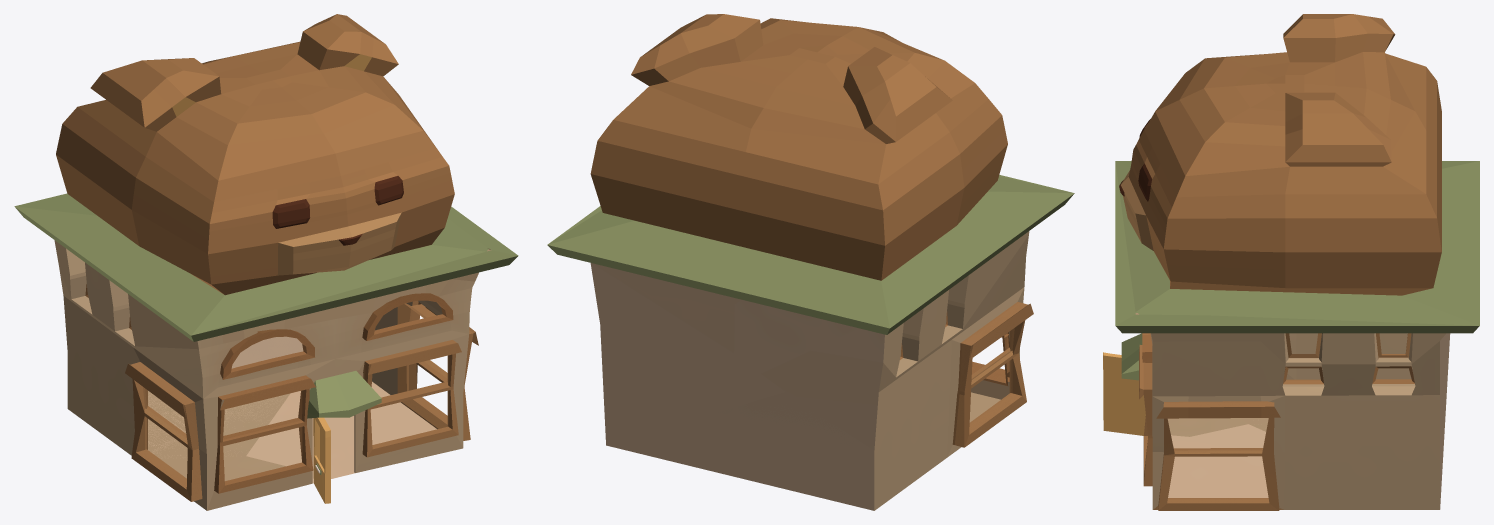
The model's file is ToyStore_Building_Final_DOOROPEN.fbx.
The picture shows the model from 3 angles, left to right: view 1: azimuth 30°, elevation 25°; view 2: azimuth 150°, elevation 25°; view 3: azimuth 270°, elevation 25°; orthographic projection. The views are drawn at different scales.
Parts seen in each view (by area): view 1: Cafe; view 2: Cafe; view 3: Cafe.
Boxes of the visible parts, box(x1,y1,x2,y2) form: Cafe: box(14, 14, 518, 510); Cafe: box(547, 14, 1074, 510); Cafe: box(1103, 14, 1479, 510).
Bounding box in the file's own units: 3525 × 3857 × 3404.
